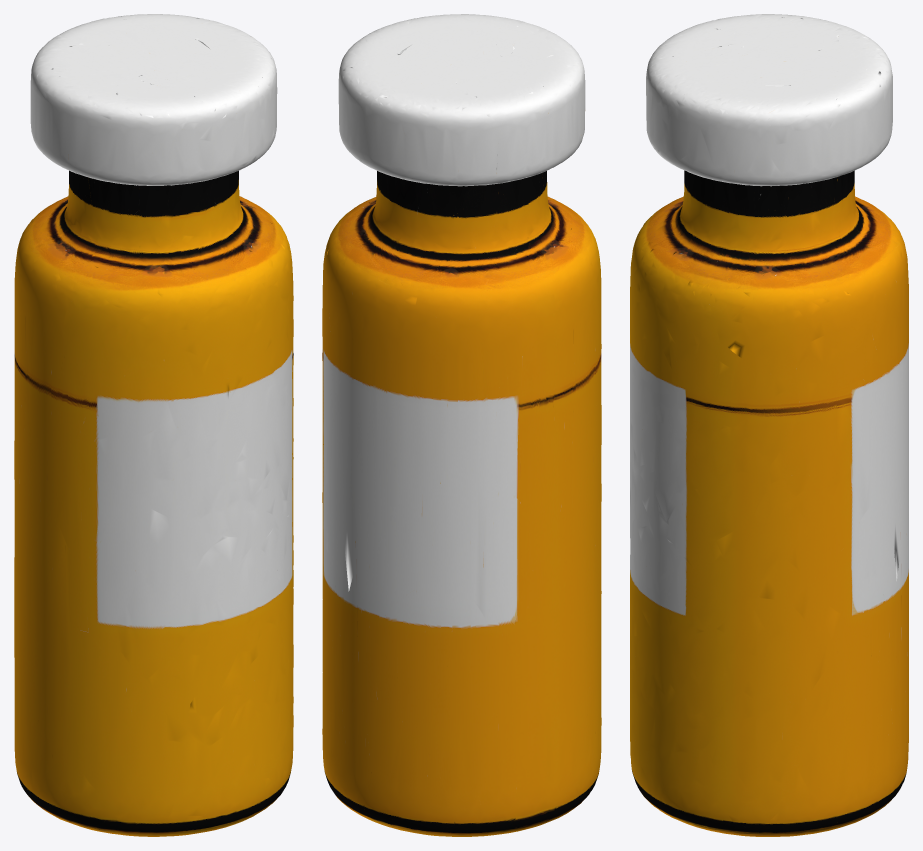
The model's file is trt-vial.glb.
The picture shows the model from 3 angles, left to right: view 1: azimuth 30°, elevation 25°; view 2: azimuth 150°, elevation 25°; view 3: azimuth 270°, elevation 25°; orthographic projection.
Size of the model in its own units: 0.6622 by 1.91 by 0.6622.
1 material, 1 textured.
